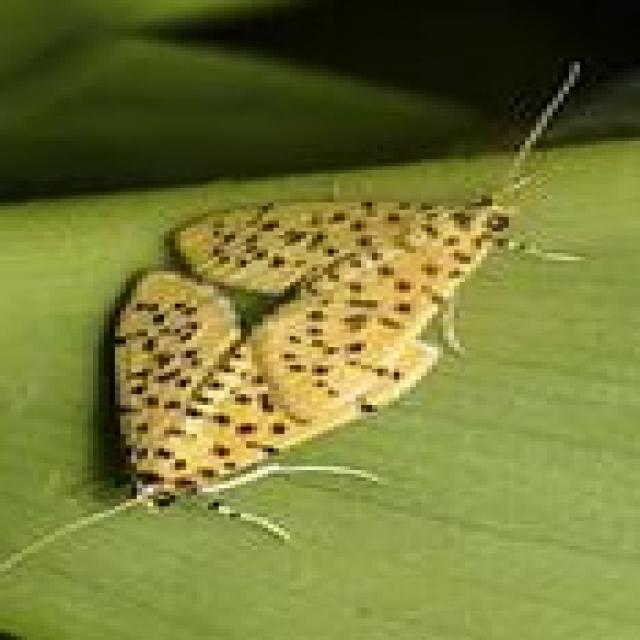peach borer: (86, 178, 540, 547)
